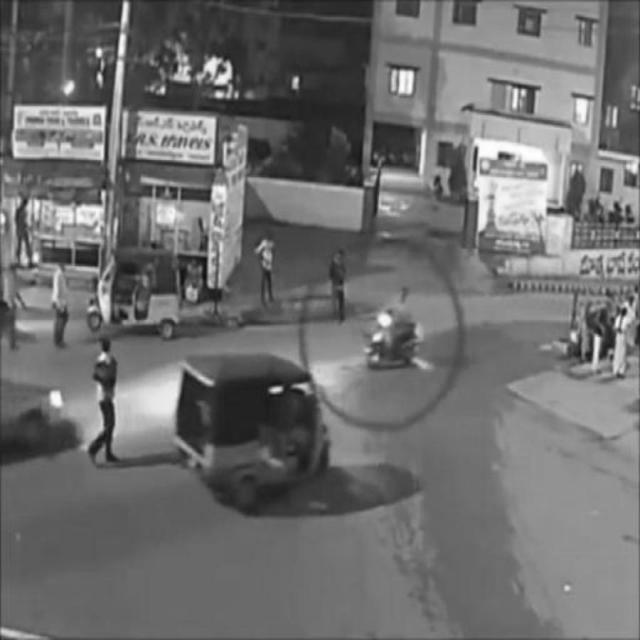person: (87, 331, 122, 468), (53, 258, 73, 346), (256, 231, 276, 305), (14, 194, 32, 265), (329, 252, 347, 322)
vehicle: (178, 361, 332, 502), (86, 254, 186, 342), (369, 289, 423, 377)
